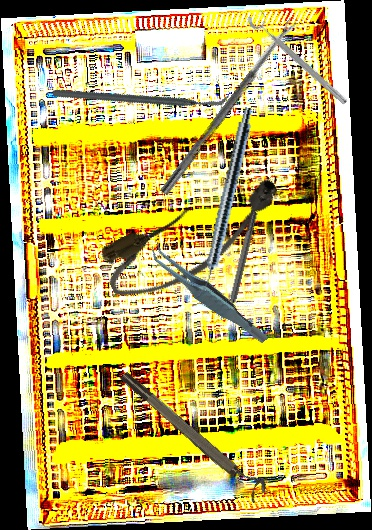Cannula: (94, 167, 295, 311)
Chopper: (50, 23, 233, 169)
Fixation Ring: (117, 363, 271, 504), (243, 4, 356, 109), (219, 210, 264, 324)
Handpiece: (194, 105, 256, 301)
Surgical Spoon: (160, 17, 298, 197)
Tissue Forceps: (147, 224, 269, 364)
